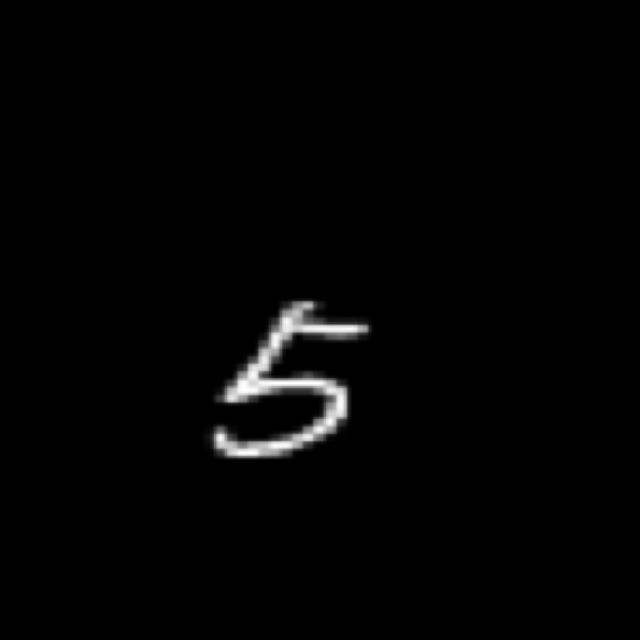five -5-: (211, 301, 382, 472)
